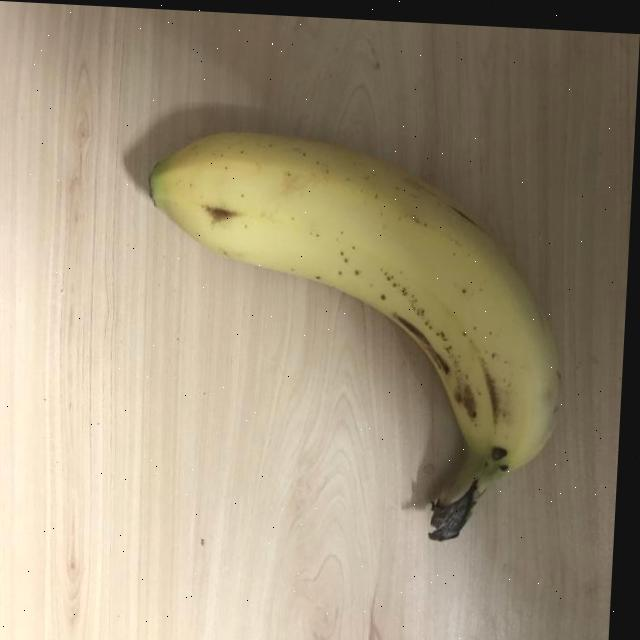banana: (117, 116, 574, 551)
